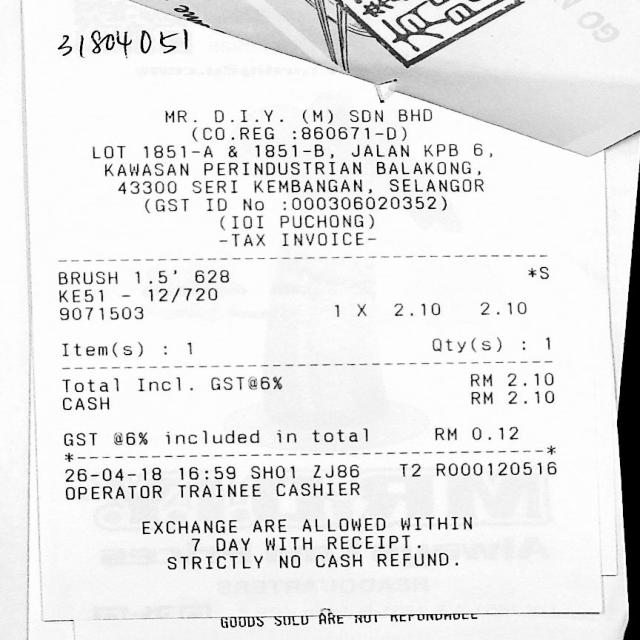text: (202, 160, 359, 174), (281, 196, 444, 209), (434, 460, 555, 475), (292, 126, 404, 140), (252, 179, 370, 192), (280, 231, 364, 248), (374, 161, 479, 174), (164, 555, 261, 569), (64, 484, 160, 498), (278, 214, 372, 228), (61, 340, 141, 356), (140, 520, 236, 533), (388, 178, 482, 191), (164, 430, 258, 443), (328, 535, 420, 548), (102, 162, 186, 176), (57, 306, 141, 320), (175, 483, 259, 497), (301, 517, 383, 531), (376, 552, 456, 566), (273, 482, 357, 495), (192, 127, 272, 140), (252, 144, 332, 157), (432, 337, 500, 352), (69, 468, 160, 479), (399, 516, 470, 530), (56, 267, 116, 283), (209, 376, 280, 389), (142, 144, 210, 157), (147, 288, 215, 301), (60, 377, 117, 391), (310, 428, 366, 442), (212, 109, 272, 122), (349, 143, 406, 156), (117, 180, 174, 193), (177, 465, 233, 478), (136, 376, 180, 391), (61, 395, 108, 409), (506, 390, 552, 404), (312, 463, 358, 477), (505, 372, 552, 385), (144, 198, 187, 212), (218, 233, 264, 246), (264, 536, 310, 549), (314, 553, 360, 566), (218, 214, 260, 228), (390, 614, 474, 621), (190, 179, 235, 192), (398, 105, 432, 122), (480, 301, 524, 314), (216, 616, 263, 628), (58, 288, 101, 301), (249, 465, 292, 478), (470, 426, 516, 438), (393, 303, 438, 315), (422, 142, 456, 156), (63, 432, 96, 446), (252, 517, 284, 531), (214, 537, 247, 550), (348, 109, 382, 121), (275, 614, 309, 626), (301, 109, 330, 123), (90, 146, 123, 158), (194, 270, 227, 282), (112, 432, 145, 444), (163, 110, 194, 122), (334, 303, 365, 315), (315, 612, 342, 623), (398, 462, 418, 476), (280, 554, 300, 568), (526, 266, 547, 279), (469, 373, 490, 385), (433, 428, 454, 440), (242, 197, 262, 209), (204, 198, 224, 210), (470, 391, 490, 403), (274, 430, 294, 442), (354, 614, 376, 622), (472, 142, 484, 156), (132, 267, 141, 283), (517, 338, 527, 352), (158, 270, 169, 282), (227, 144, 235, 157), (190, 537, 198, 550), (185, 341, 190, 353), (544, 336, 547, 348)
